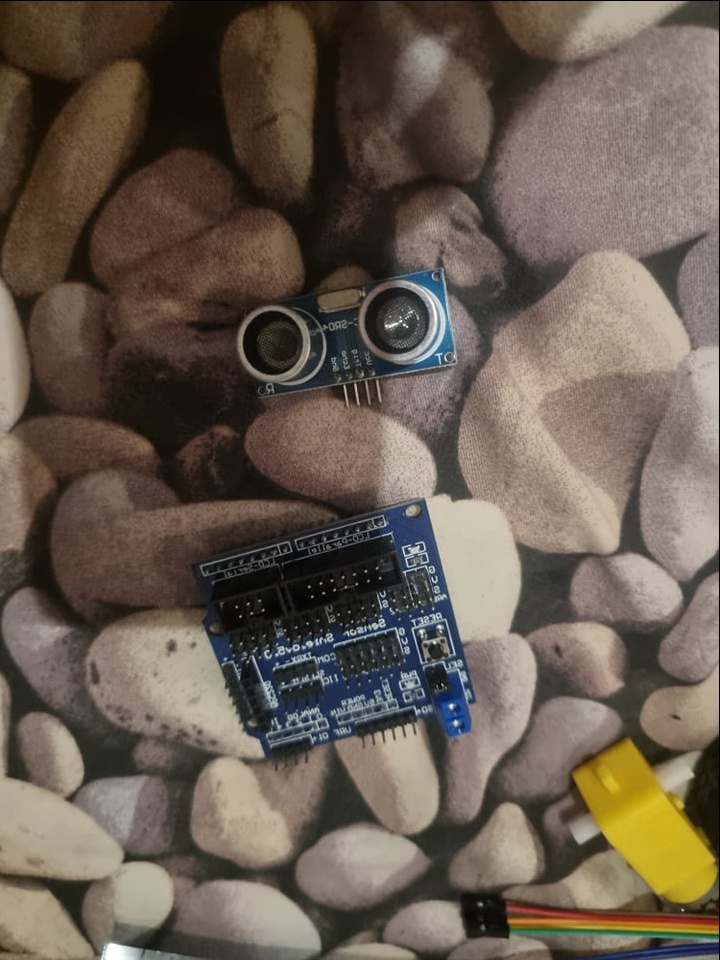5V EXPANSION: (195, 496, 478, 769)
SENSOR: (234, 263, 460, 397)
